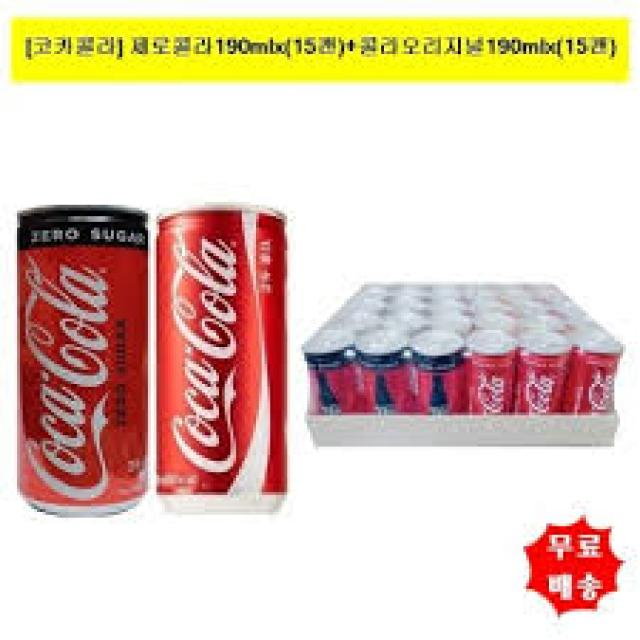Coca-Cola: (146, 204, 300, 519)
